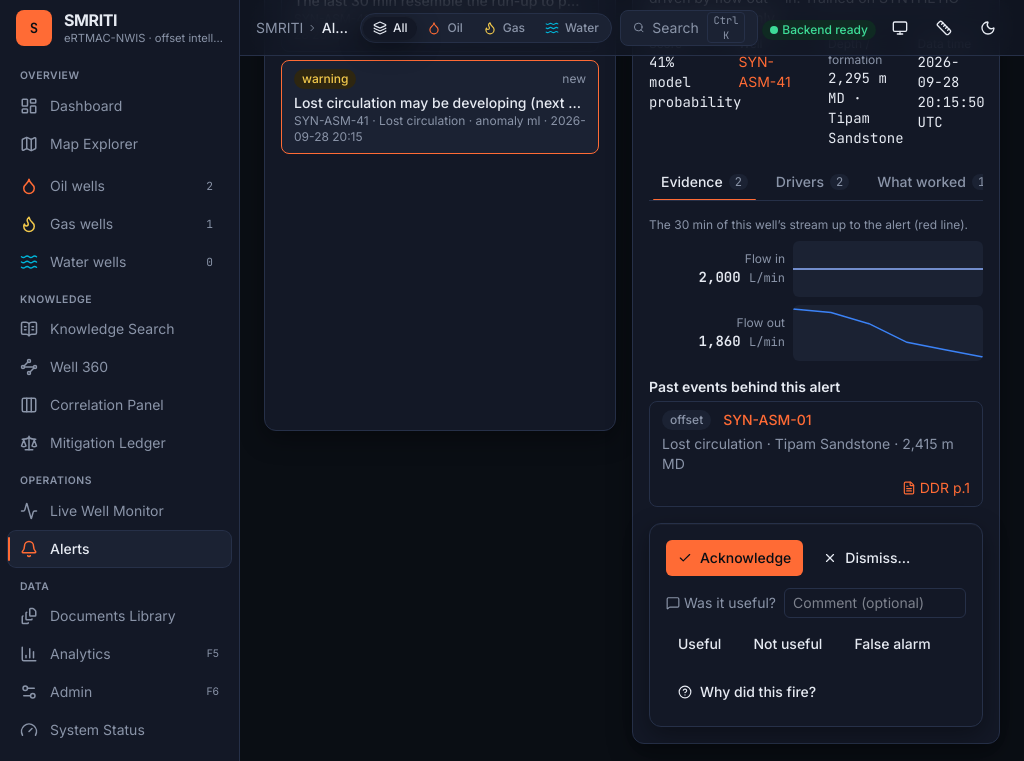
Scenario: Alerts Center › acknowledges optimistically and rolls back when the backend refuses
This screenshot has width=1024, height=761.
(page scrolled)
Click the button "Acknowledge" at (735, 558), box 666,540 -> 803,576
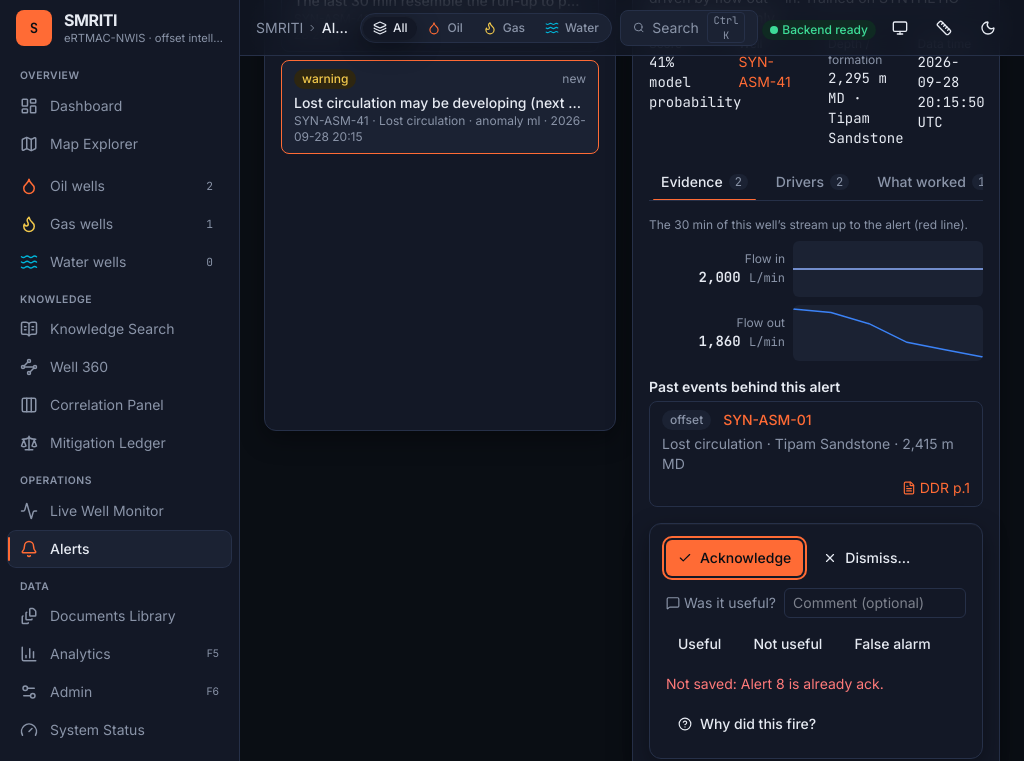
Expected: the message with test id "action-error" shows "Alert 8 is already ack.", 741,675 -> 884,692
